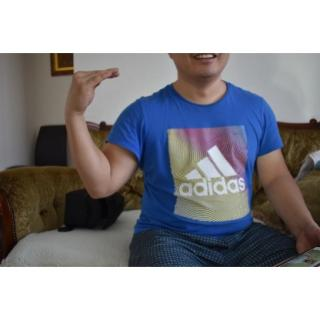HAA: (64, 65, 124, 118)
